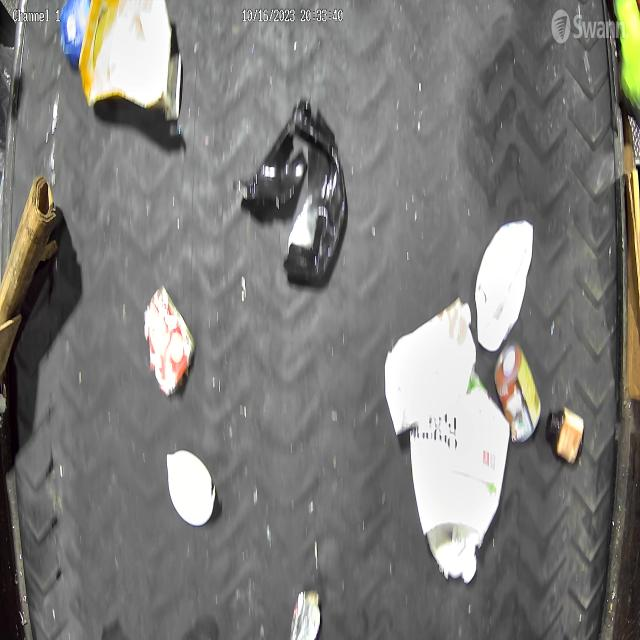can: (144, 284, 196, 396), (492, 340, 542, 444)
milk_jug: (385, 297, 476, 435), (474, 220, 534, 352)
